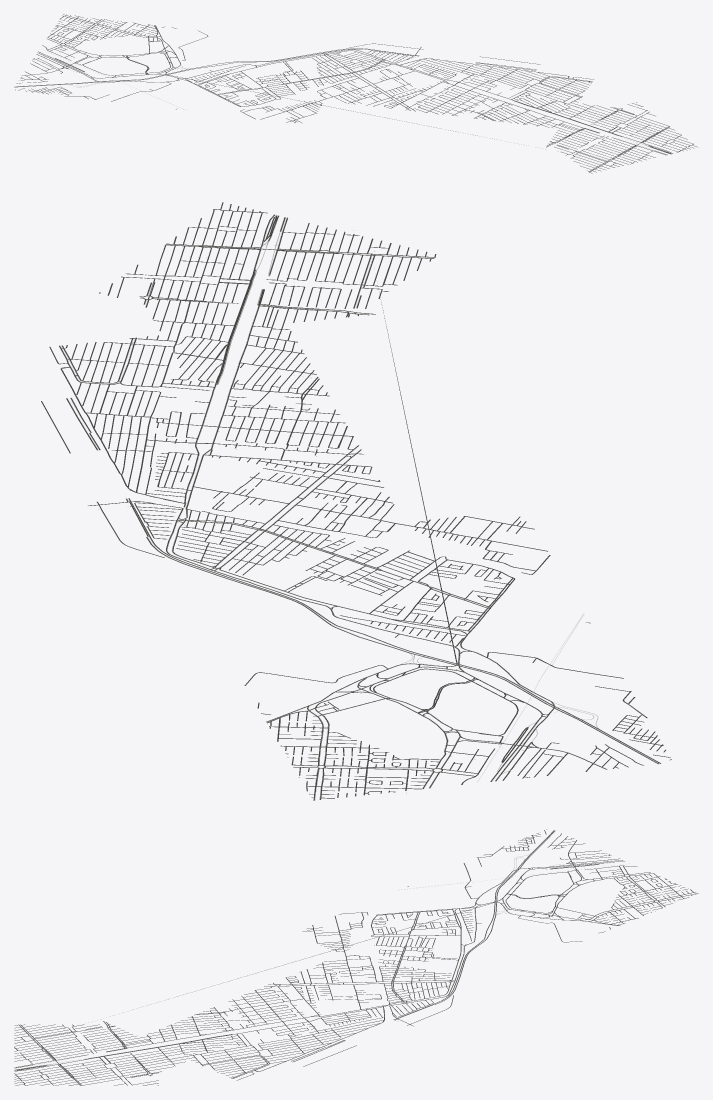
Rendered from ROADS.obj.
The picture shows the model from 3 angles, top to bottom: view 1: azimuth 30°, elevation 25°; view 2: azimuth 150°, elevation 25°; view 3: azimuth 270°, elevation 25°; orthographic projection. The views are drawn at different scales.
Visible parts, largest first — view 1: Object002, default; view 2: Object002, default; view 3: Object002, default.
Boxes of the visible parts, bbox=[...] form: Object002: bbox=[14, 14, 634, 147]; default: bbox=[554, 102, 697, 173]; Object002: bbox=[41, 282, 671, 800]; default: bbox=[99, 202, 436, 327]; Object002: bbox=[103, 829, 698, 1080]; default: bbox=[14, 1024, 158, 1085].
Size of the model in its own units: 2195 by 20 by 2473.
